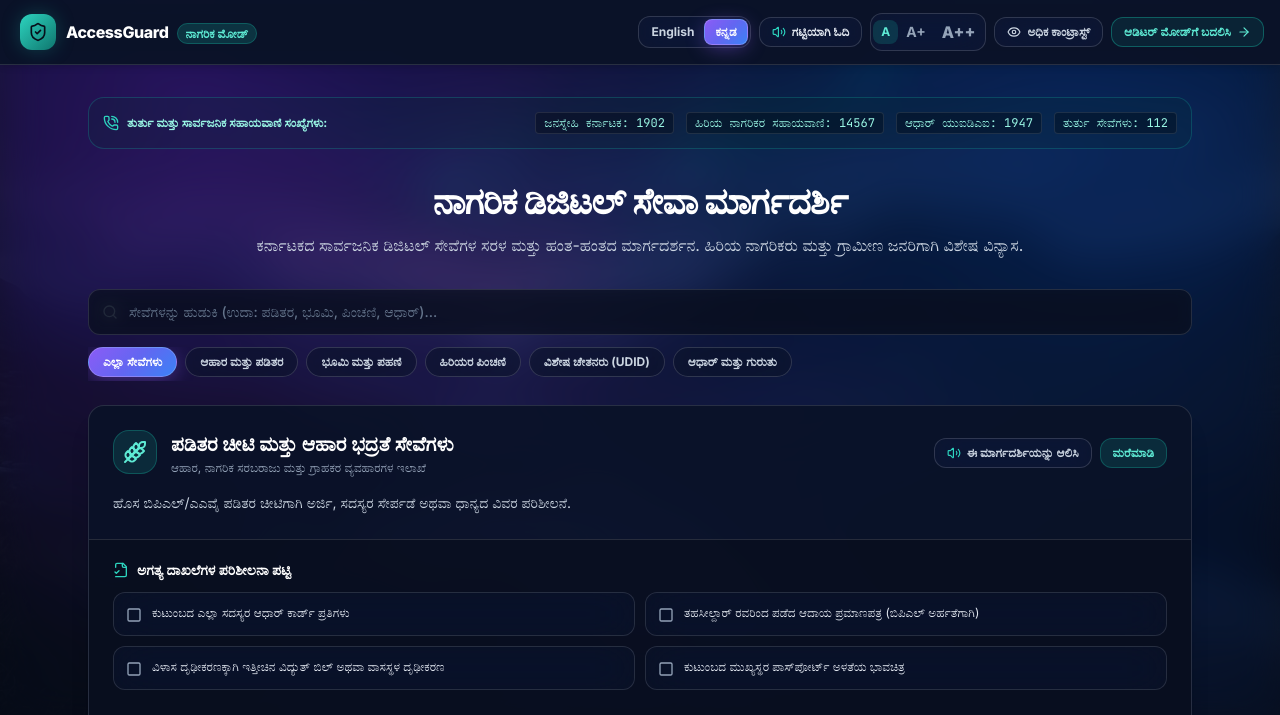
Test: Citizen Mode (Bilingual Accessibility & Civic Guidance) › renders Citizen Mode with Kannada by default and allows switching to English
The width and height of the screenshot is (1280, 715).
Check: the heading "ನಾಗರಿಕ ಡಿಜಿಟಲ್ ಸೇವಾ ಮಾರ್ಗದರ್ಶಿ" is shown, box x1=433 y1=179 x2=847 y2=223
Check: the button "ಕನ್ನಡ" is shown, box x1=704 y1=19 x2=748 y2=45
Switch to English
Click the button "English" at (673, 32), box x1=641 y1=20 x2=704 y2=44
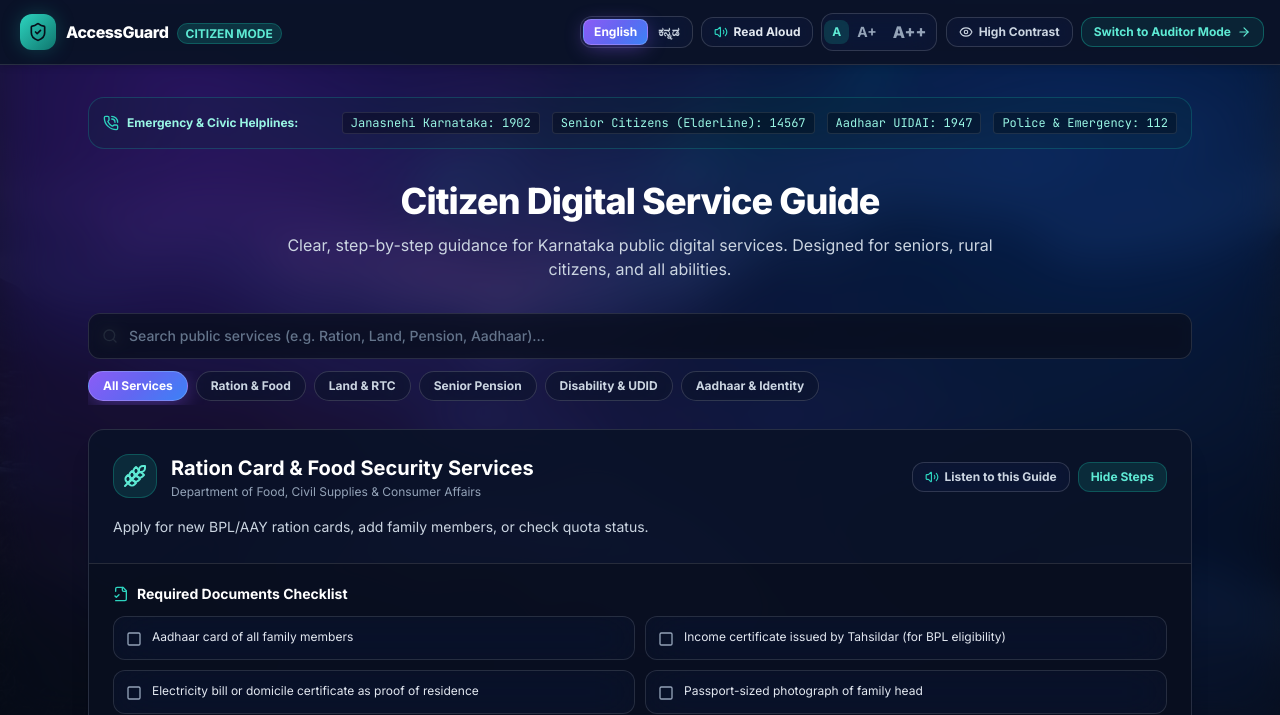
Check: the heading "Citizen Digital Service Guide" is shown, box x1=400 y1=179 x2=880 y2=223
Switch back to Kannada
Click the button "ಕನ್ನಡ" at (669, 32), box x1=648 y1=20 x2=690 y2=44
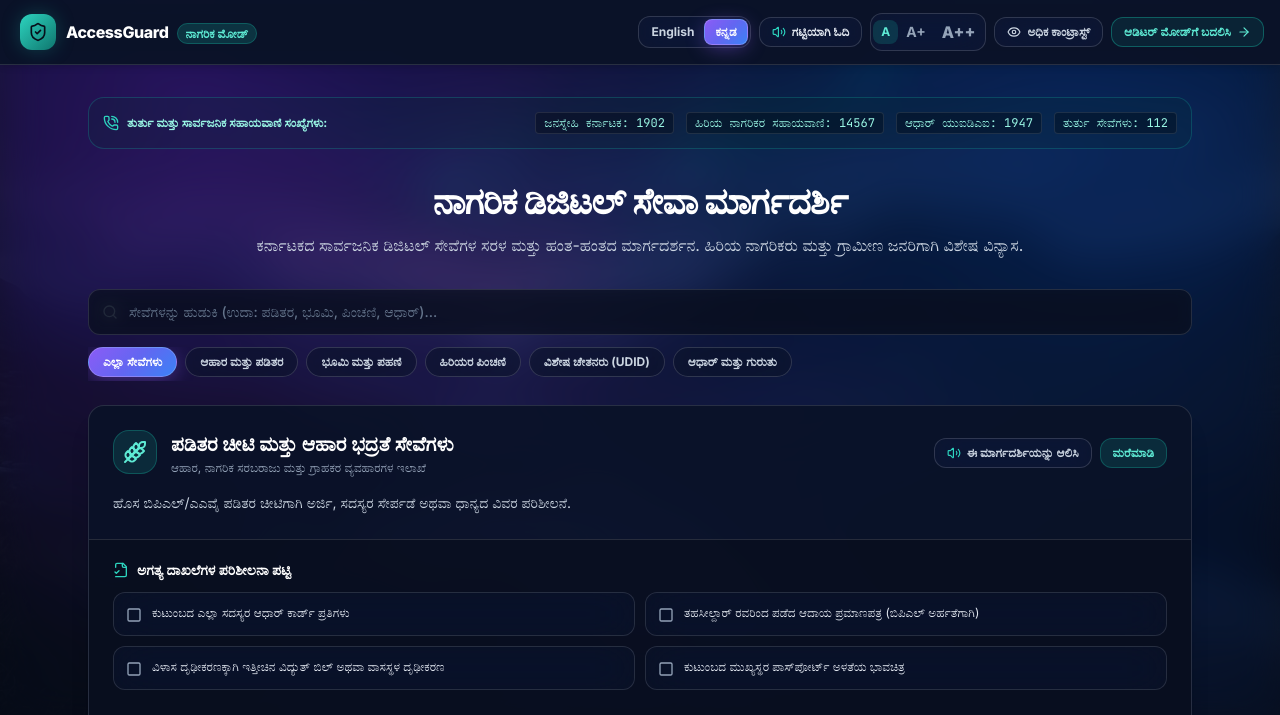
Check: the heading "ನಾಗರಿಕ ಡಿಜಿಟಲ್ ಸೇವಾ ಮಾರ್ಗದರ್ಶಿ" is shown, box x1=433 y1=179 x2=847 y2=223
